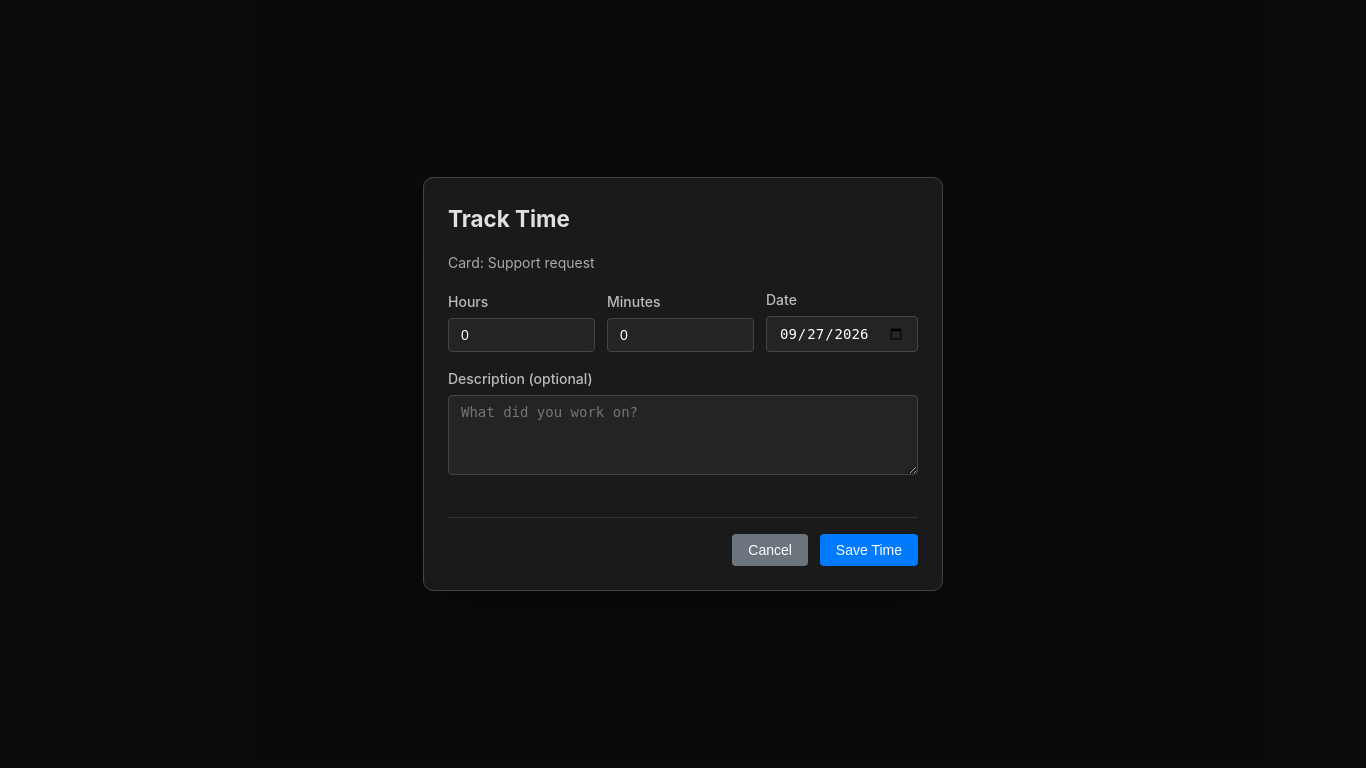
it: TimeInput › requires a date
The image size is (1366, 768).
Replace the text in the number field labelled "Minutes" with "30" at x=680, y=335, box [607, 318, 754, 352]
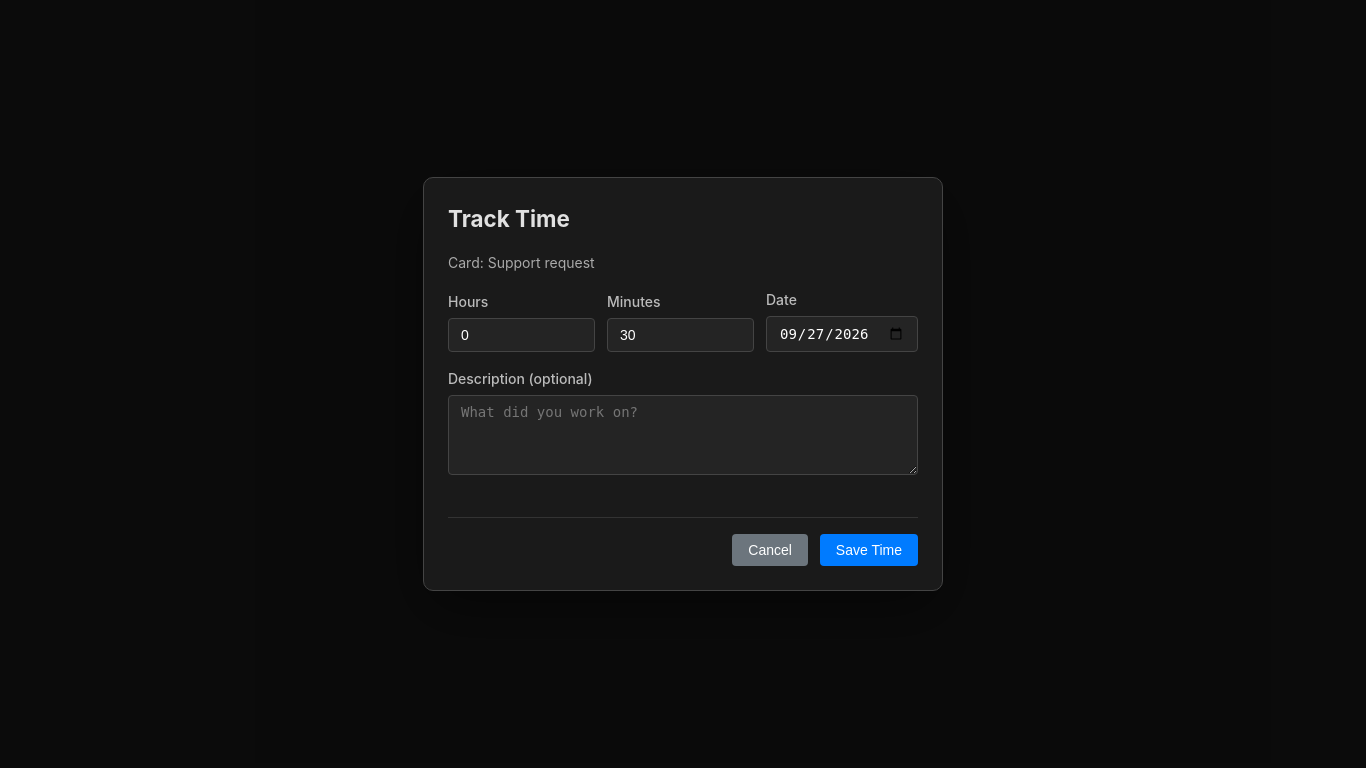
Clear the date field labelled "Date" at x=842, y=334, box [766, 316, 918, 352]
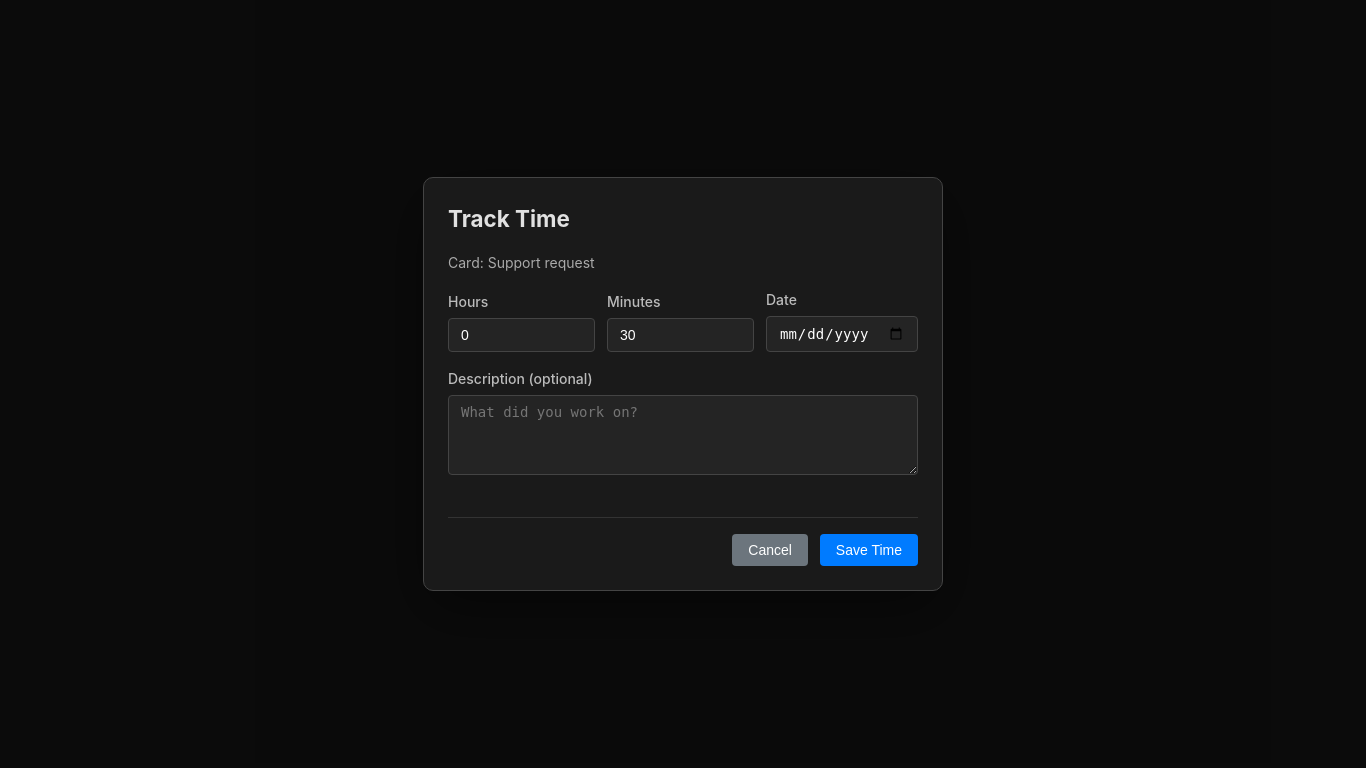
Click the button "Save Time" at x=869, y=550, box [820, 534, 918, 566]
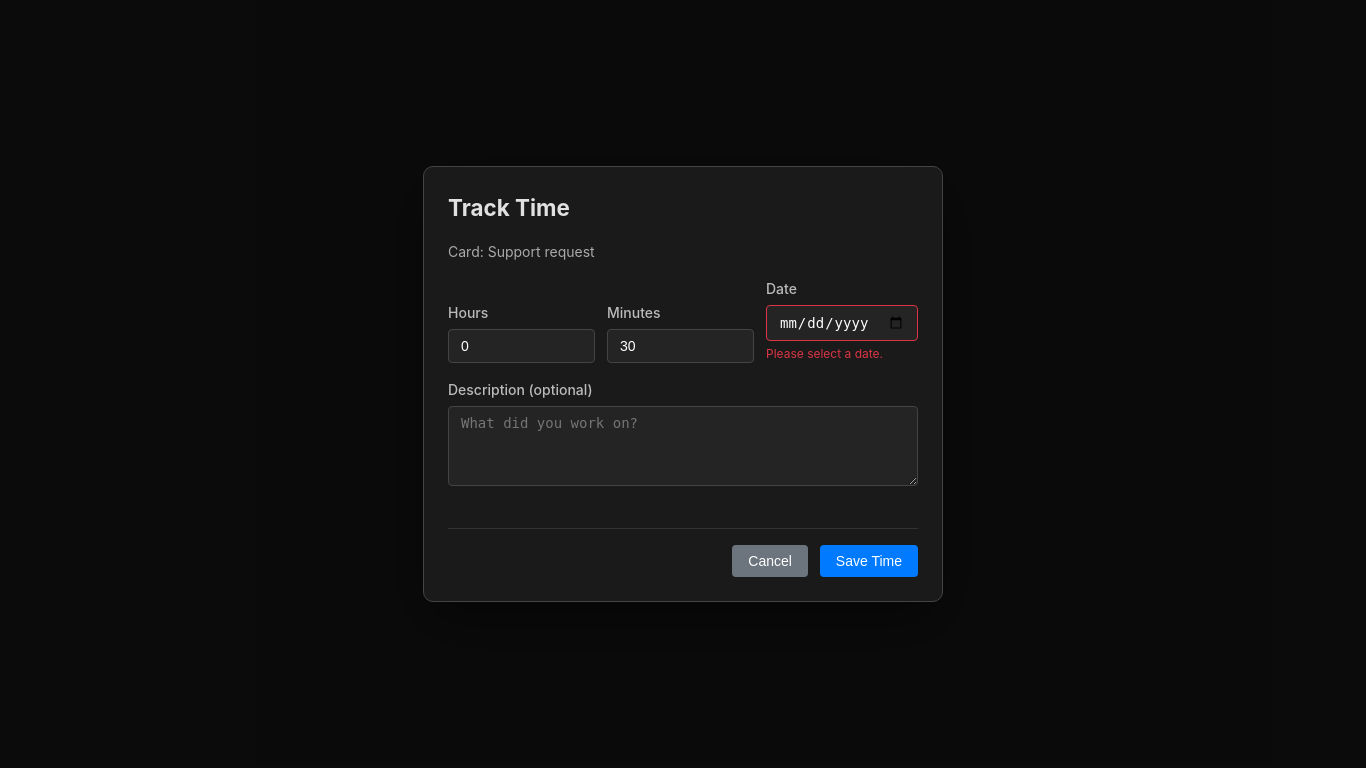
Now the text "Please select a date." is shown, box [766, 346, 883, 361]
